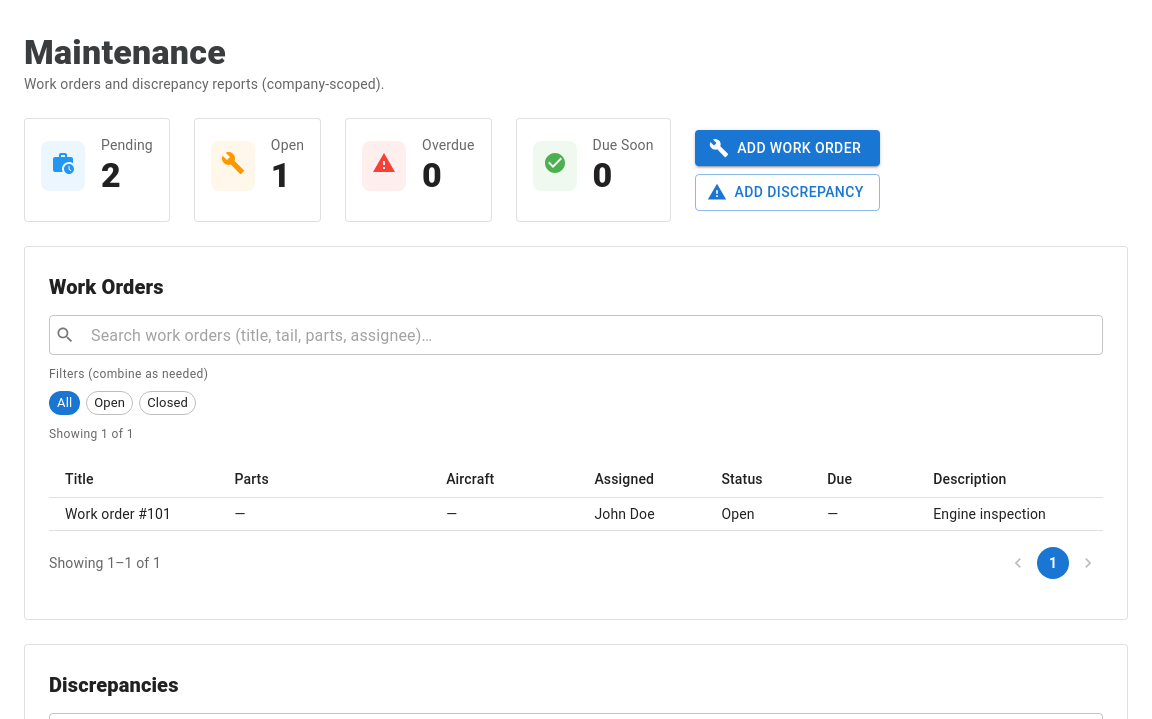
Test case: Maintenance page › closes add work order form when close button is clicked
Expected: the dialog "create work order" is not shown
Click the button "Add Work Order": (787, 148) [695,130,880,166]
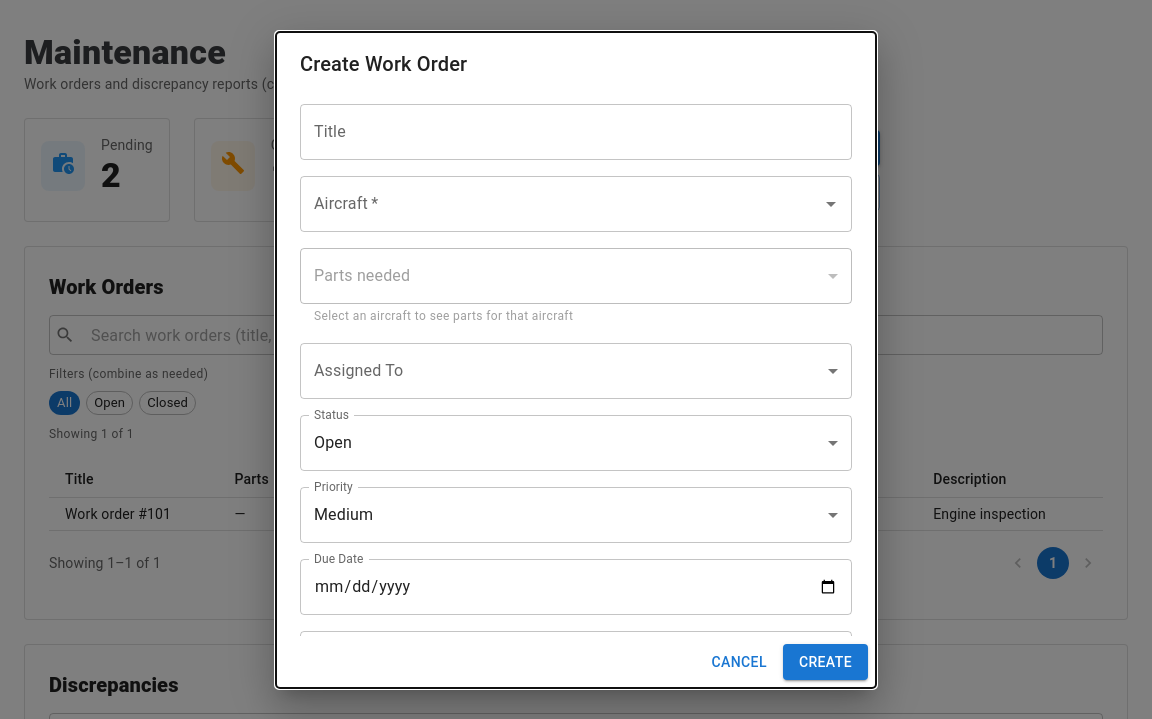
Click the button "Cancel": (739, 662) [703,644,775,680]
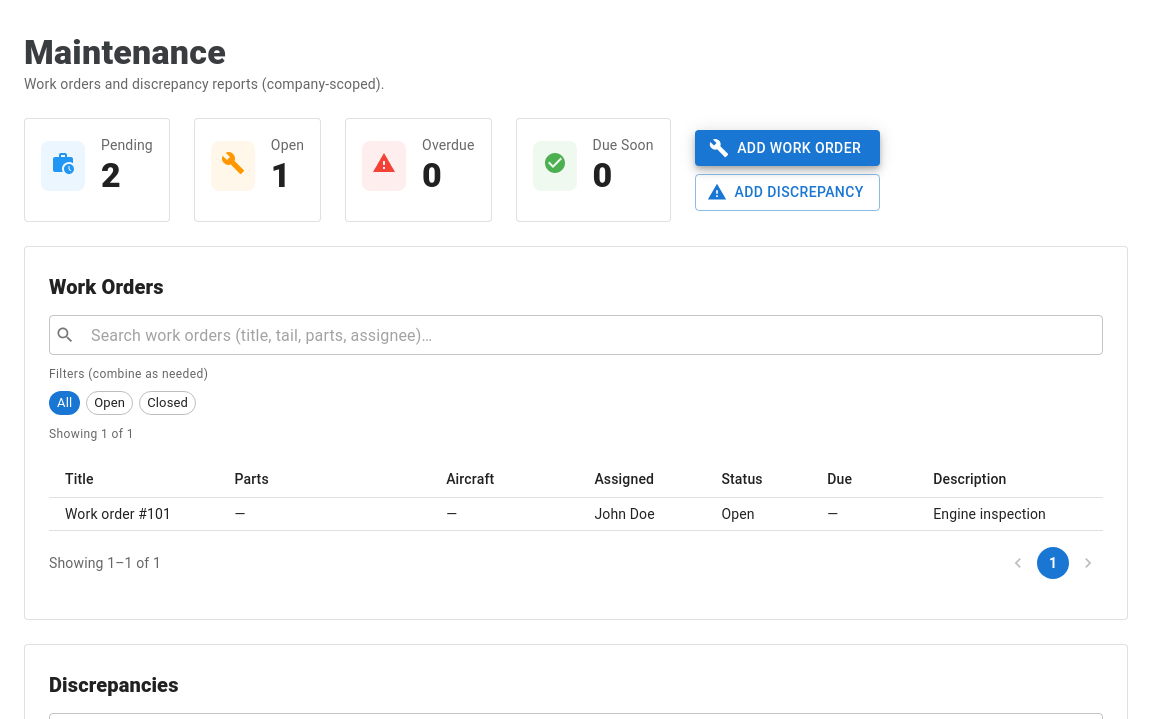
Now the heading "Create Work Order" is gone
